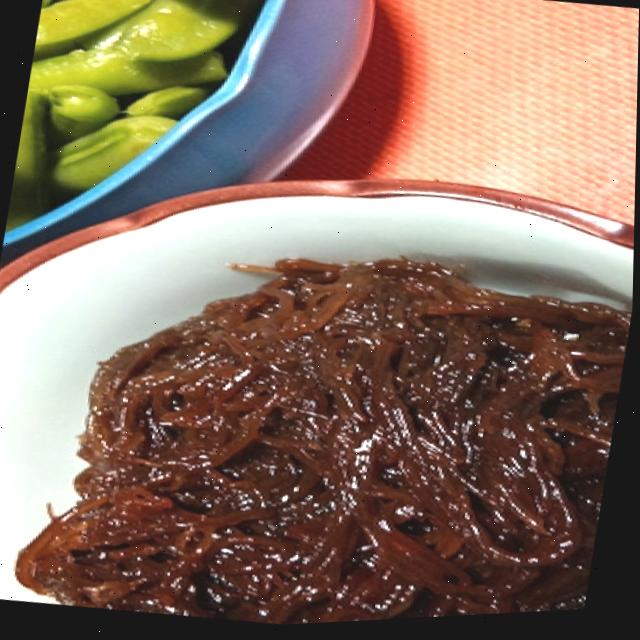蔬菜料理: (0, 159, 637, 640)
